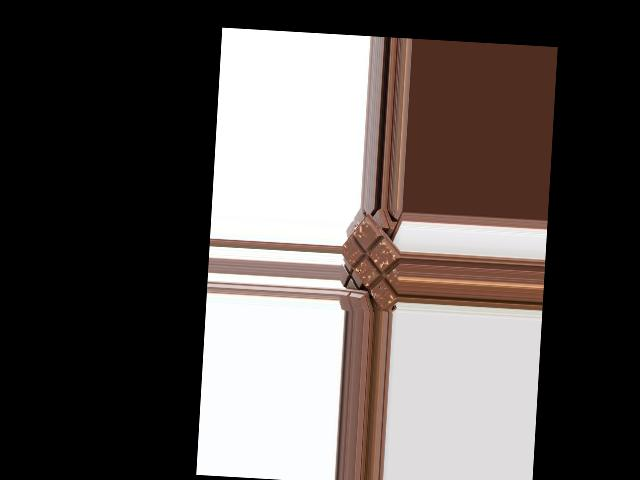chocolate: (339, 219, 402, 310)
